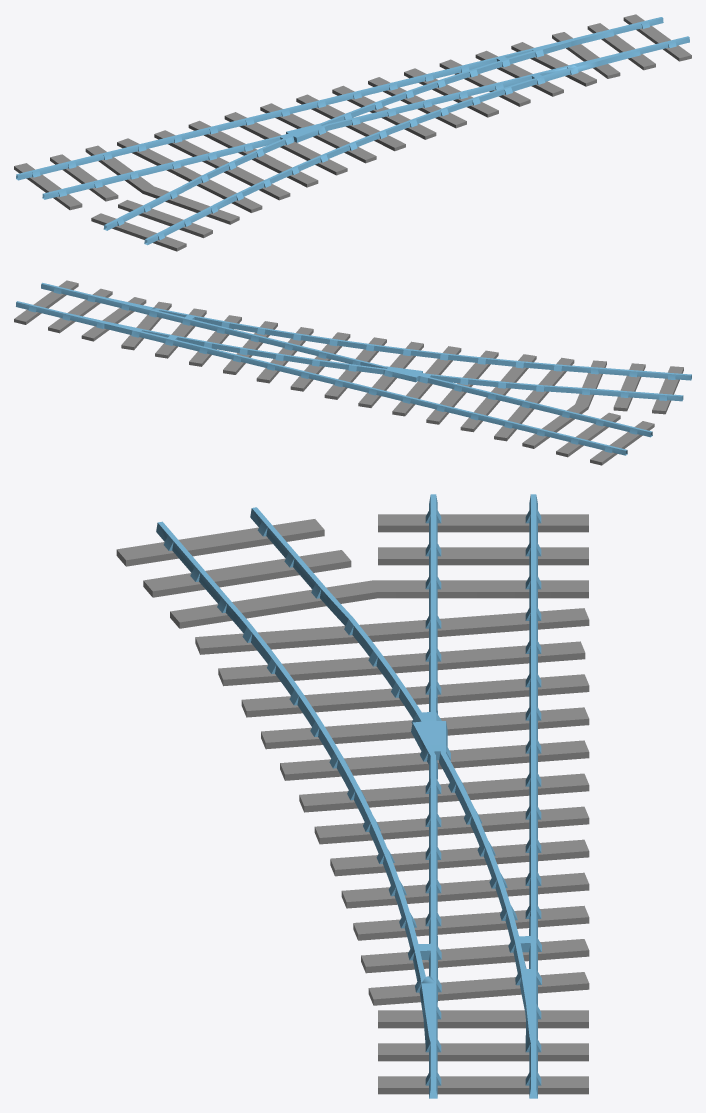
File: 15mYRailCollider.fbx
3 renders of one model, top to bottom at view 1: azimuth 30°, elevation 25°; view 2: azimuth 150°, elevation 25°; view 3: azimuth 270°, elevation 25°, orthographic. The views are drawn at different scales.
Parts seen in each view (by area): view 1: 15mYRailCollider; view 2: 15mYRailCollider; view 3: 15mYRailCollider.
Boxes of the visible parts, x1,y1,x2,y2 form: 15mYRailCollider: (14, 14, 691, 251); 15mYRailCollider: (14, 280, 691, 465); 15mYRailCollider: (116, 494, 589, 1098).
Size of the model in its own units: 1800 by 22.18 by 604.
